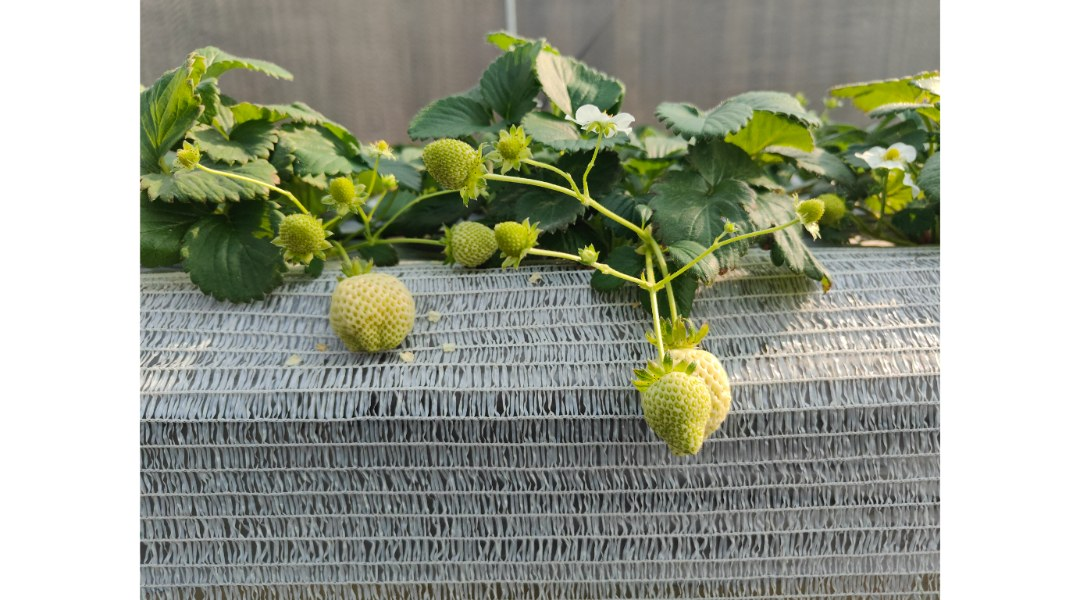berry: (650, 327, 738, 438), (627, 357, 713, 462), (329, 265, 424, 360), (409, 125, 488, 201), (438, 215, 505, 277), (264, 209, 328, 267), (787, 192, 836, 244), (494, 215, 543, 262), (496, 117, 540, 169), (312, 168, 362, 210), (167, 137, 201, 177), (358, 126, 387, 156), (577, 238, 600, 267)
flower: (851, 128, 916, 184), (575, 94, 640, 148)
strain: (534, 244, 641, 285), (207, 168, 301, 201), (477, 174, 575, 198), (724, 213, 795, 246), (660, 249, 710, 293), (585, 203, 638, 233), (384, 231, 443, 254), (642, 297, 664, 345), (583, 143, 600, 189)
